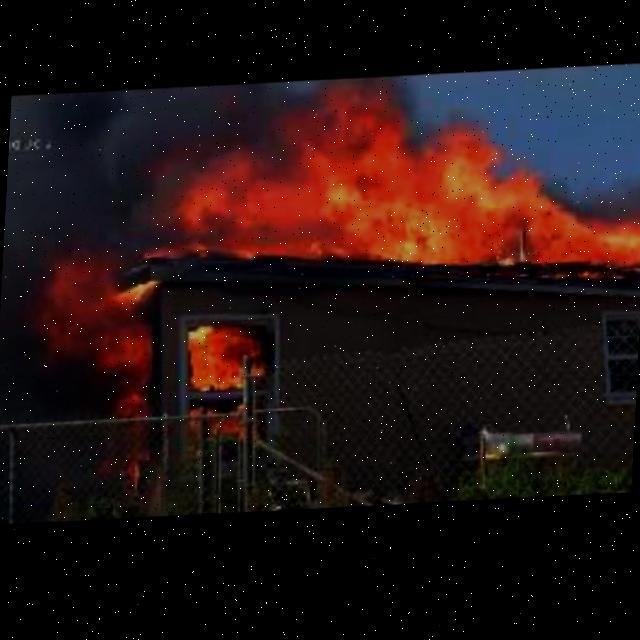fire: (176, 81, 640, 283), (48, 235, 172, 381), (174, 300, 279, 405)
